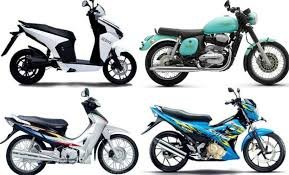motor: (141, 91, 289, 175), (142, 3, 289, 87), (7, 1, 138, 88), (12, 91, 139, 175)
